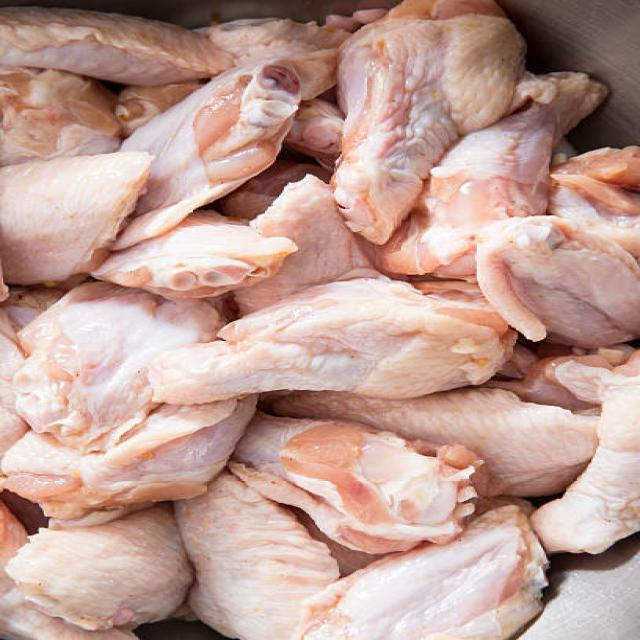Chicken: (320, 0, 519, 236), (140, 286, 514, 410)
